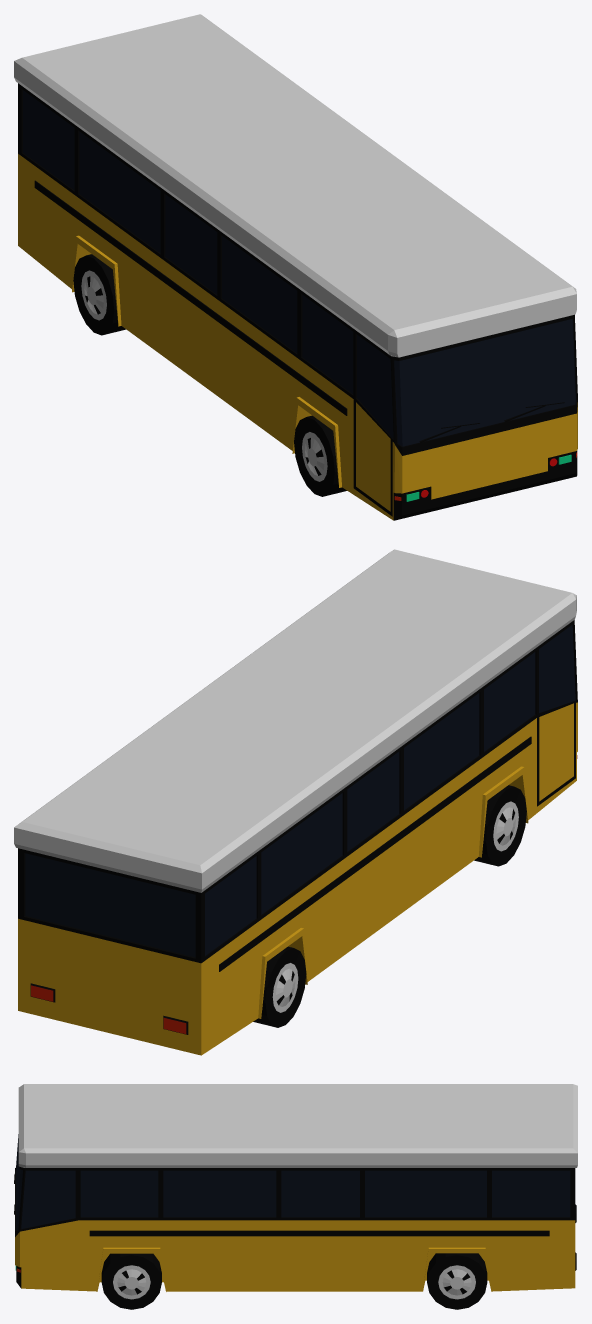
Rendered from FBX_Bus.FBX.
The picture shows the model from 3 angles, top to bottom: view 1: azimuth 30°, elevation 25°; view 2: azimuth 150°, elevation 25°; view 3: azimuth 270°, elevation 25°; orthographic projection. The views are drawn at different scales.
Visible parts, largest first — view 1: Body, Tire_2, Tire_1; view 2: Body, Tire_2, Tire_1; view 3: Body, Tire_3, Tire_4.
Boxes of the visible parts, bbox=[...] form: Body: bbox=[14, 14, 577, 520]; Tire_2: bbox=[73, 254, 125, 335]; Tire_1: bbox=[294, 415, 346, 496]; Body: bbox=[14, 549, 577, 1055]; Tire_2: bbox=[253, 946, 306, 1027]; Tire_1: bbox=[474, 785, 526, 866]; Body: bbox=[14, 1084, 577, 1291]; Tire_3: bbox=[427, 1253, 487, 1309]; Tire_4: bbox=[101, 1253, 161, 1309].
Bounding box in the file's own units: 3.04 × 3.2 × 10.28.
